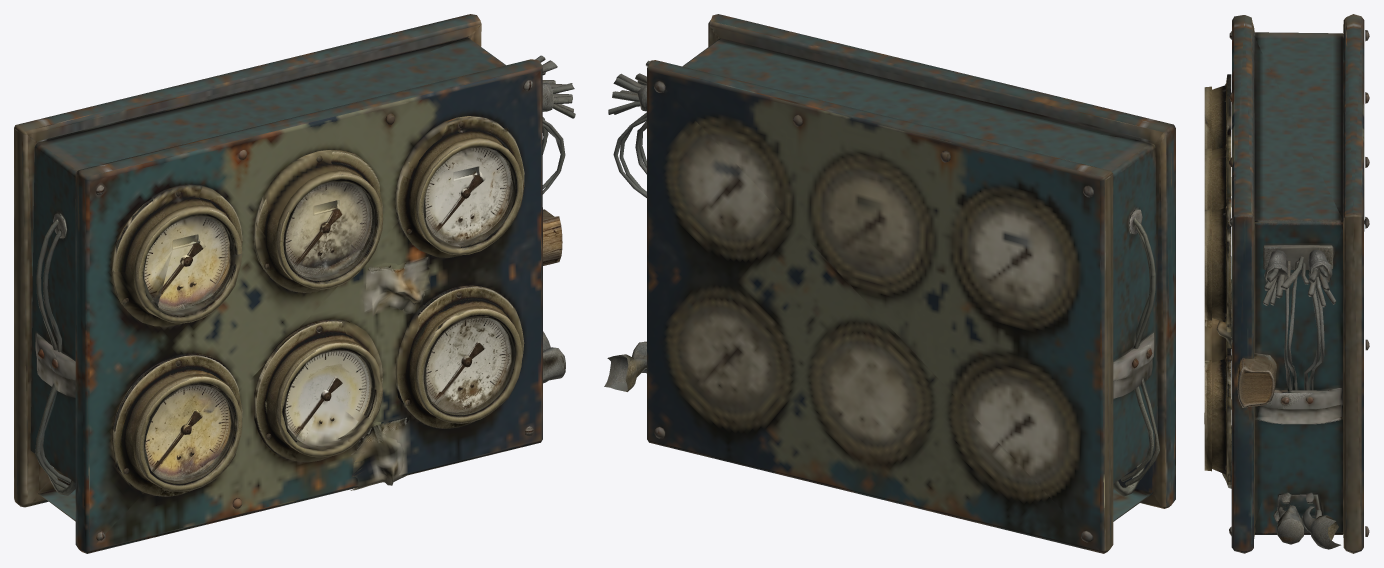
Rendered from silo81_gauge_bank.glb.
The picture shows the model from 3 angles, left to right: view 1: azimuth 30°, elevation 25°; view 2: azimuth 150°, elevation 25°; view 3: azimuth 270°, elevation 25°; orthographic projection. The views are drawn at different scales.
Size of the model in its own units: 0.958 by 0.6602 by 0.2886.
1 material, 1 textured.
